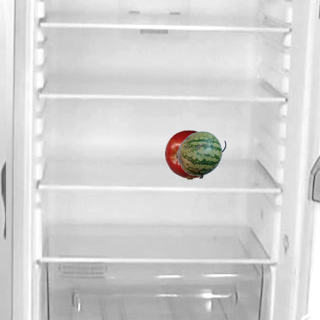Apple Braeburn: (164, 129, 214, 179)
Watermelon: (176, 129, 226, 179)
